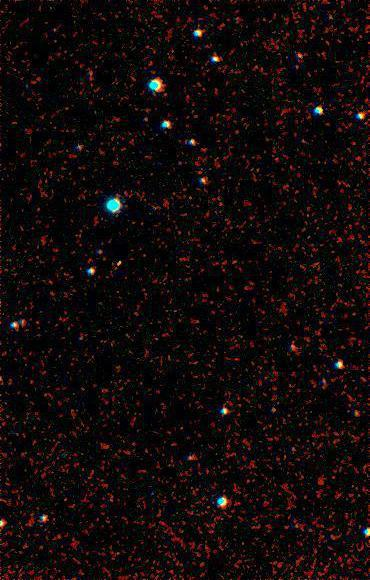star: (104, 252, 134, 282)
